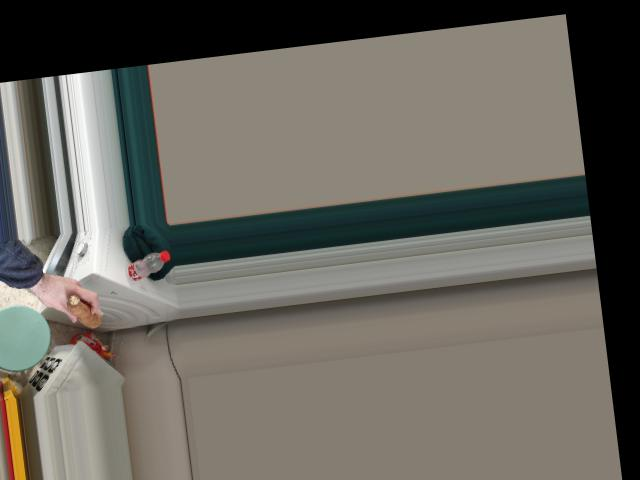sweet_potato: (61, 288, 105, 330)
